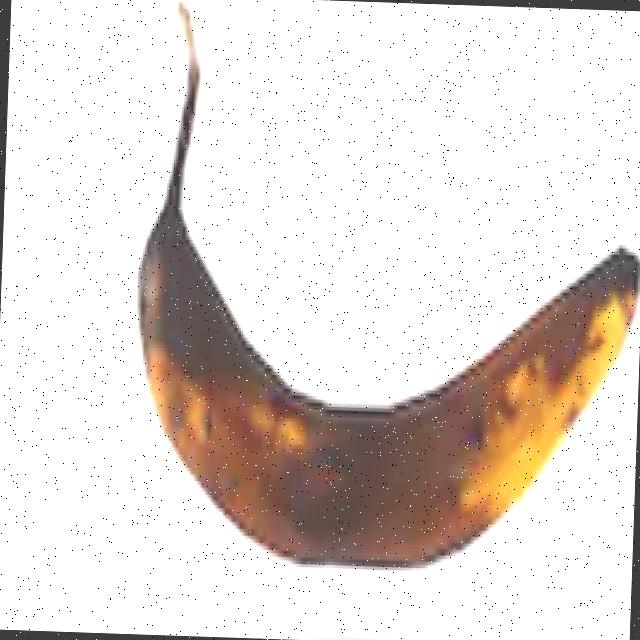Rotten: (105, 0, 640, 598)
